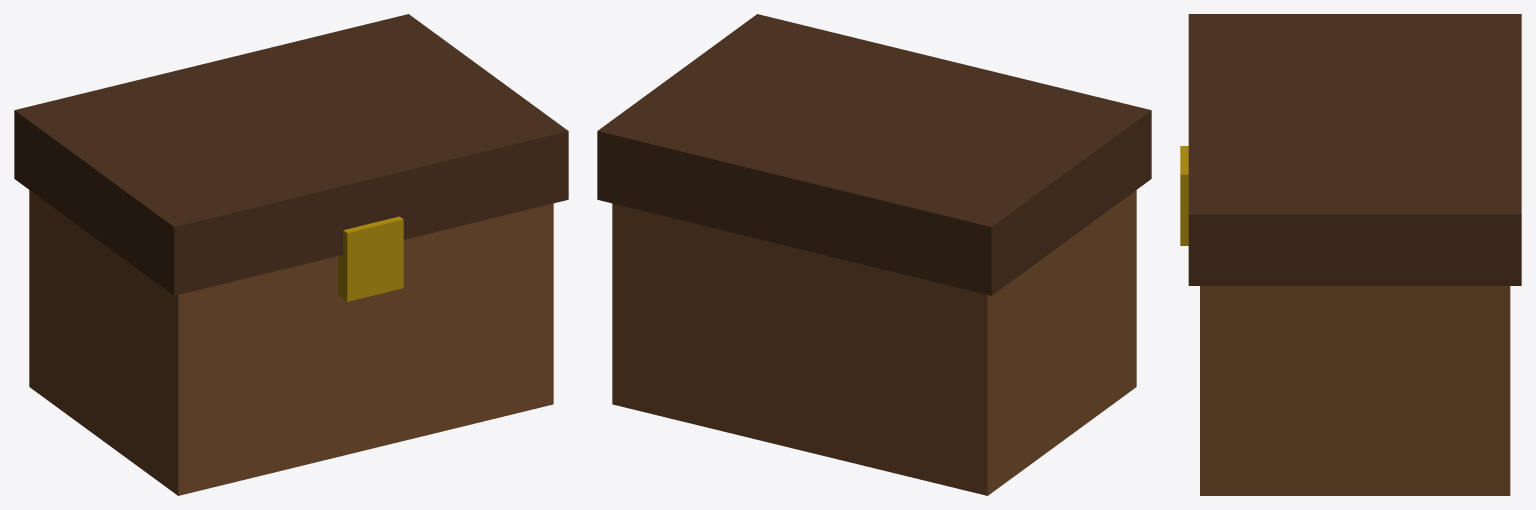
Rendered from chest.278a1d61.glb.
The picture shows the model from 3 angles, left to right: view 1: azimuth 30°, elevation 25°; view 2: azimuth 150°, elevation 25°; view 3: azimuth 270°, elevation 25°; orthographic projection. The views are drawn at different scales.
Visible parts, largest first — view 1: body; view 2: body; view 3: body.
Part boxes in pixels (<box>): body: <box>14,14,568,495</box>; body: <box>597,14,1151,495</box>; body: <box>1180,14,1521,495</box>.
Size of the model in its own units: 0.84 by 0.56 by 0.605.
